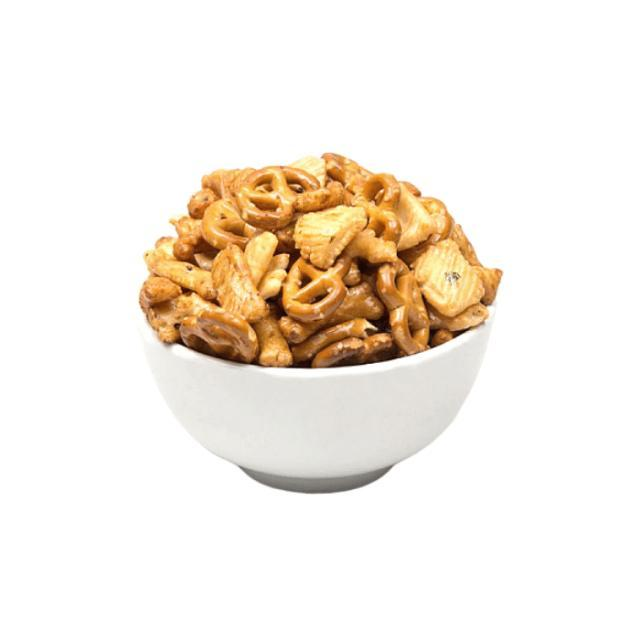Salatini: (133, 154, 523, 366)
